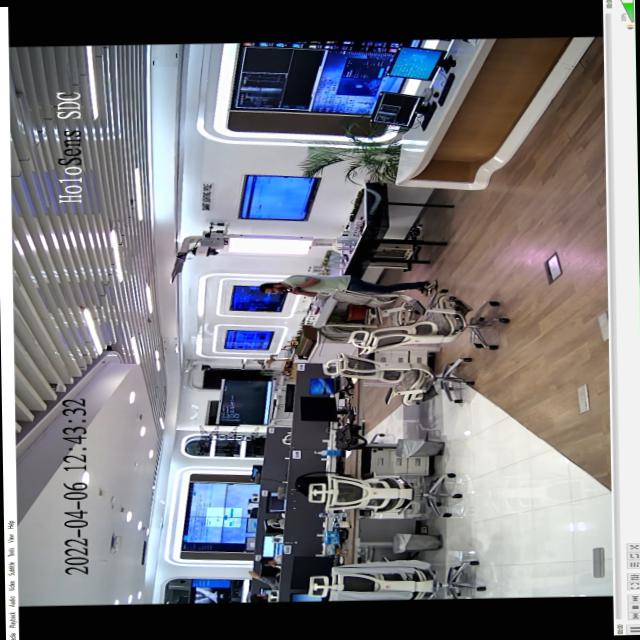long weapon: (278, 282, 304, 294)
